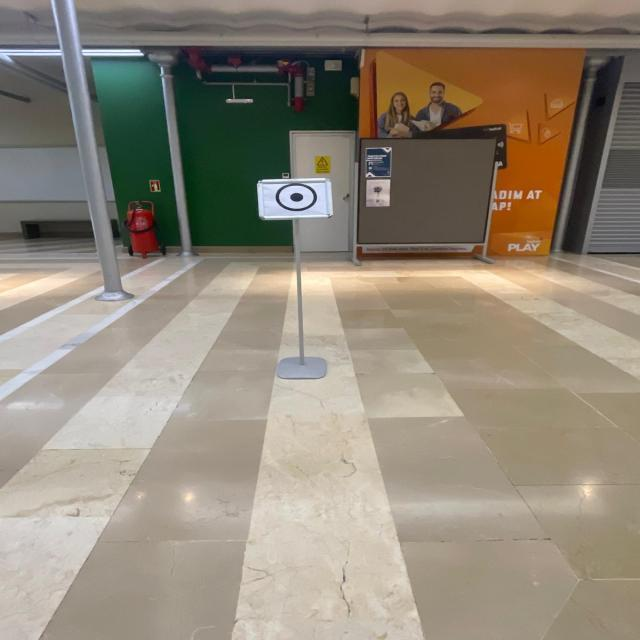Target: (246, 165, 349, 230)
inner: (286, 190, 308, 204)
